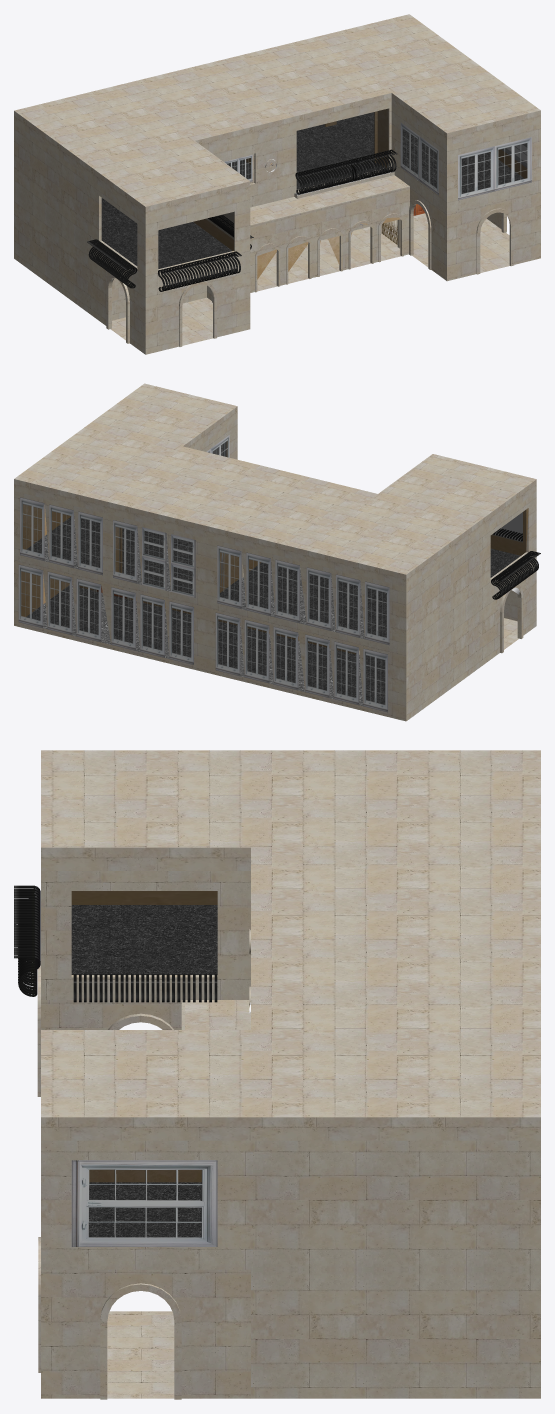
Rendered from casa_med.glb.
3 renders of one model, top to bottom at view 1: azimuth 30°, elevation 25°; view 2: azimuth 150°, elevation 25°; view 3: azimuth 270°, elevation 25°, orthographic. The views are drawn at different scales.
Parts seen in each view (by area): view 1: Material2 (×6), Material3; view 2: Material2 (×5), Material3; view 3: Material2 (×6), Material3.
Part boxes in pixels (bbox=[...]): Material2 (×6): bbox=[14, 14, 540, 354]; Material3: bbox=[101, 112, 524, 268]; Material2 (×5): bbox=[14, 383, 540, 721]; Material3: bbox=[26, 515, 520, 706]; Material2 (×6): bbox=[14, 750, 540, 1399]; Material3: bbox=[71, 905, 217, 1237].
Bounding box in the file's own units: 14 × 4.84 × 8.22.
9 materials, 7 textured.
